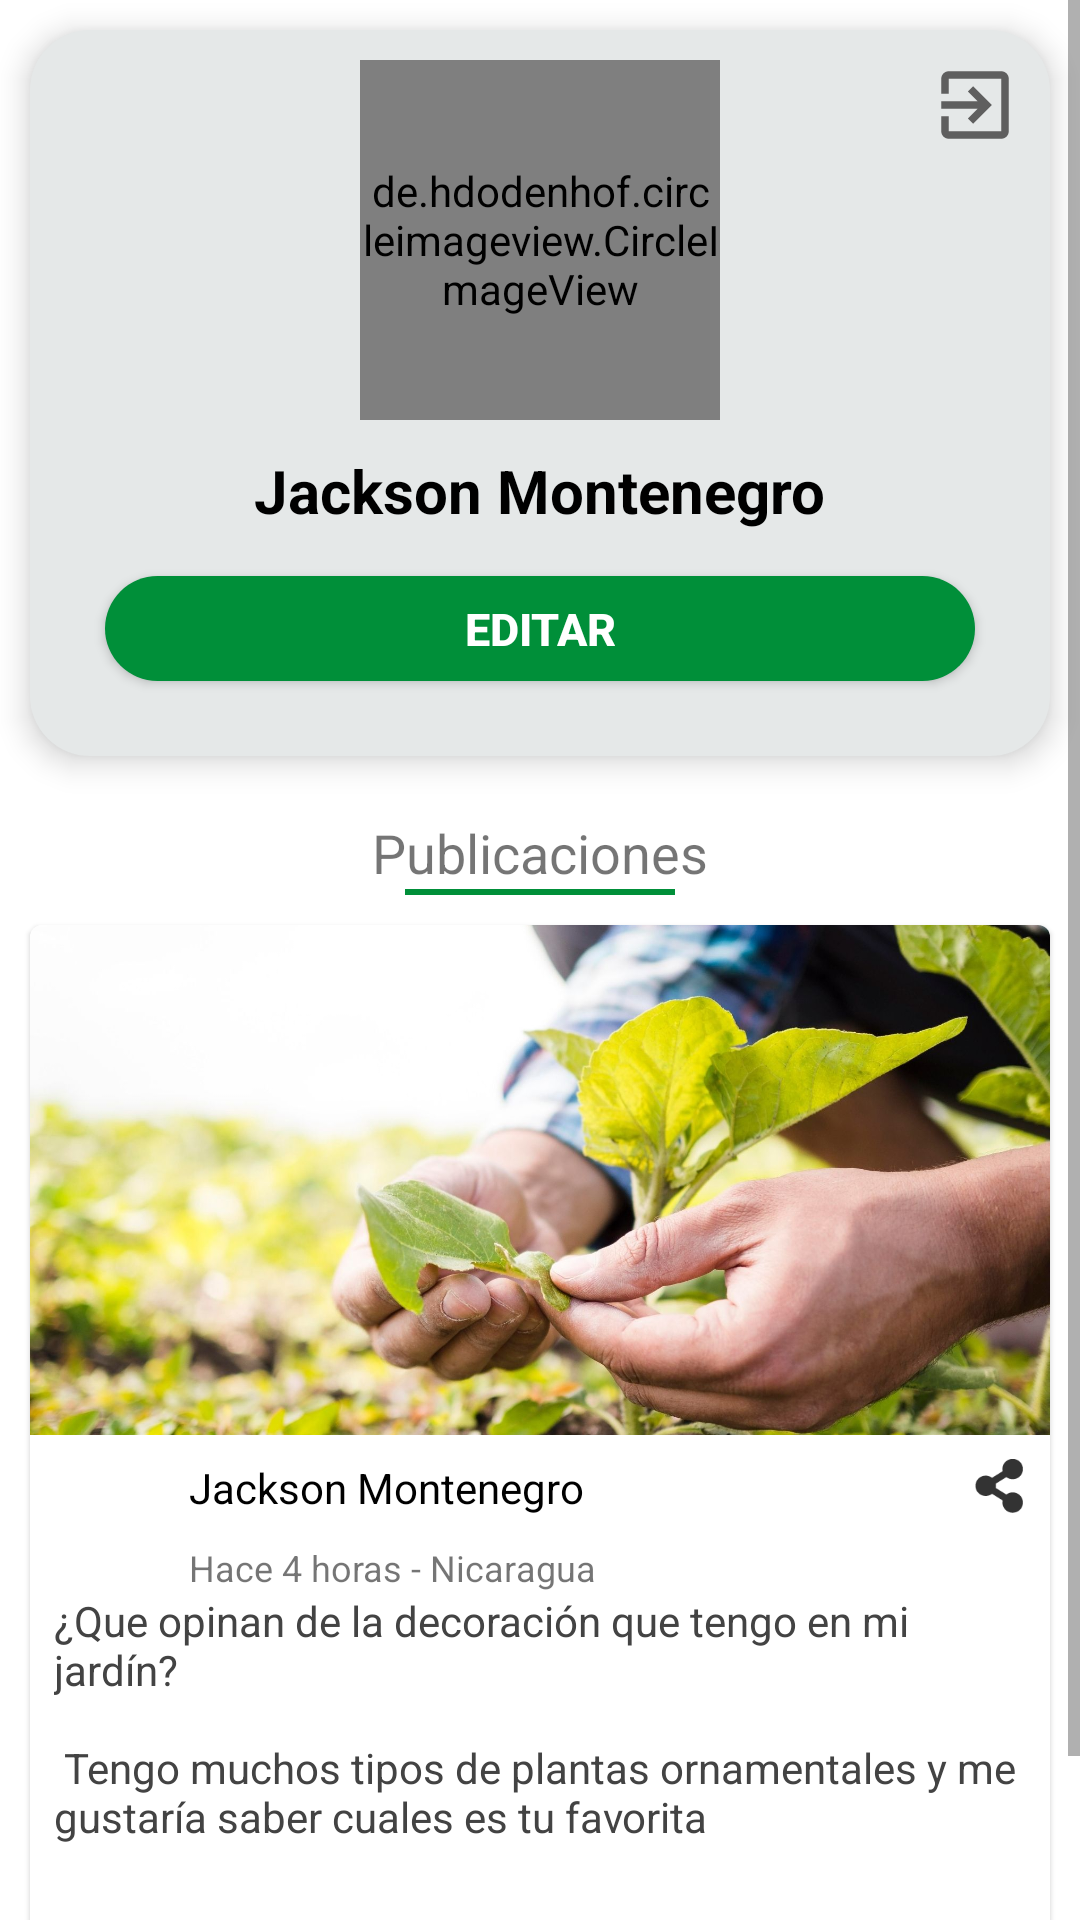

Icon bounding boxes for this 1080×1920 phone screenshot, format (x1, y1, x2, y2):
exit to app: (941, 71, 1009, 139)
share: (975, 1459, 1023, 1513)
